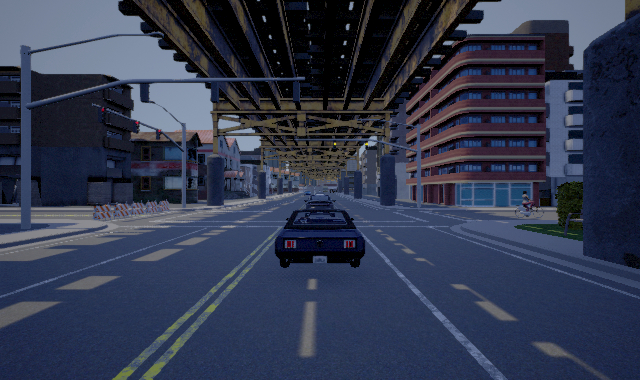bike: (515, 189, 544, 218)
traffic_light: (98, 107, 106, 123), (133, 120, 140, 134), (156, 129, 162, 140), (365, 140, 368, 149), (333, 140, 336, 149)
vehicle: (274, 206, 365, 268), (304, 193, 338, 217)
